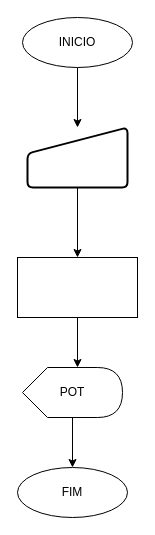
Image size: 155x535. Some labels were removed from this diagram. The shapes that lost their labels are listed below. From the top down, each one's centre as x and y in pixels, then its label:
point 77,157: BASE, EXP
point 77,287: POT<-BASE^EXP
